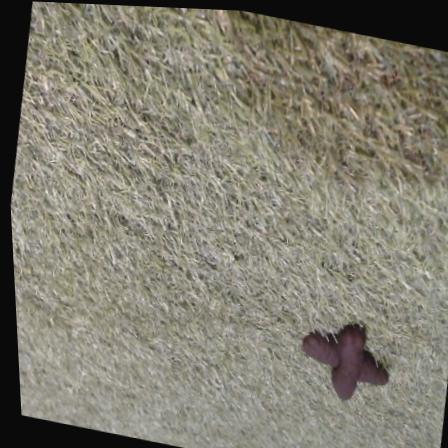dog-poop: (300, 319, 382, 408)
